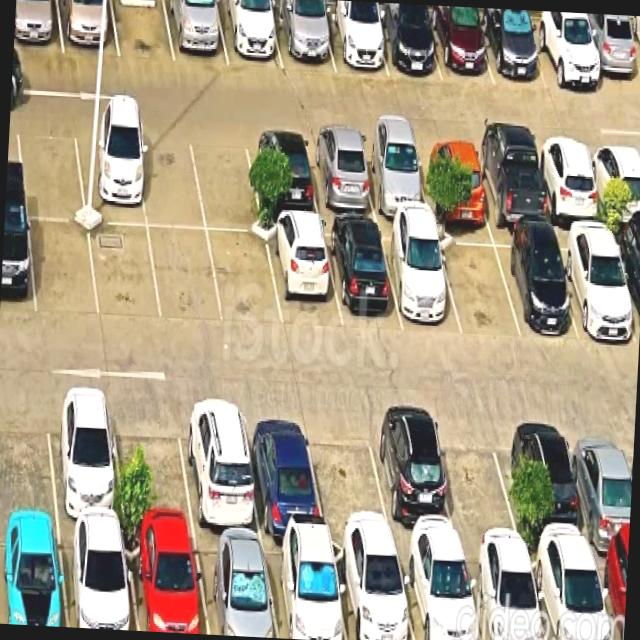empty: (436, 413, 523, 549), (305, 409, 393, 542), (112, 395, 195, 532), (436, 230, 520, 337), (189, 128, 263, 232), (0, 390, 57, 521), (135, 126, 206, 228), (148, 228, 223, 323), (90, 223, 161, 323), (16, 118, 86, 219), (208, 232, 282, 327), (29, 219, 99, 317), (112, 0, 175, 62)
occupied: (367, 412, 461, 545), (178, 400, 261, 535), (242, 404, 326, 536), (46, 390, 125, 527), (512, 415, 592, 549), (553, 229, 639, 340), (193, 534, 279, 638), (380, 225, 462, 334), (492, 232, 577, 336), (125, 531, 208, 635), (567, 418, 632, 550), (263, 538, 347, 640), (323, 222, 403, 327), (265, 220, 342, 328), (332, 541, 415, 640), (60, 525, 137, 631), (463, 547, 547, 640), (397, 547, 481, 640), (528, 549, 612, 640), (74, 122, 147, 225), (0, 524, 67, 627), (472, 141, 550, 227), (415, 138, 490, 223), (245, 132, 320, 216), (305, 133, 377, 217), (358, 135, 431, 217), (524, 12, 598, 92), (533, 142, 605, 224), (477, 8, 547, 89), (572, 14, 640, 94), (427, 5, 494, 84), (372, 7, 442, 80), (320, 3, 388, 76), (216, 0, 283, 69), (271, 1, 335, 70), (587, 143, 640, 224), (165, 0, 229, 66), (0, 213, 36, 315), (57, 0, 119, 56), (592, 550, 628, 640), (611, 230, 640, 340), (14, 0, 64, 53), (624, 18, 640, 65)
